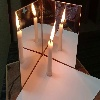fire: (49, 19, 57, 44)
